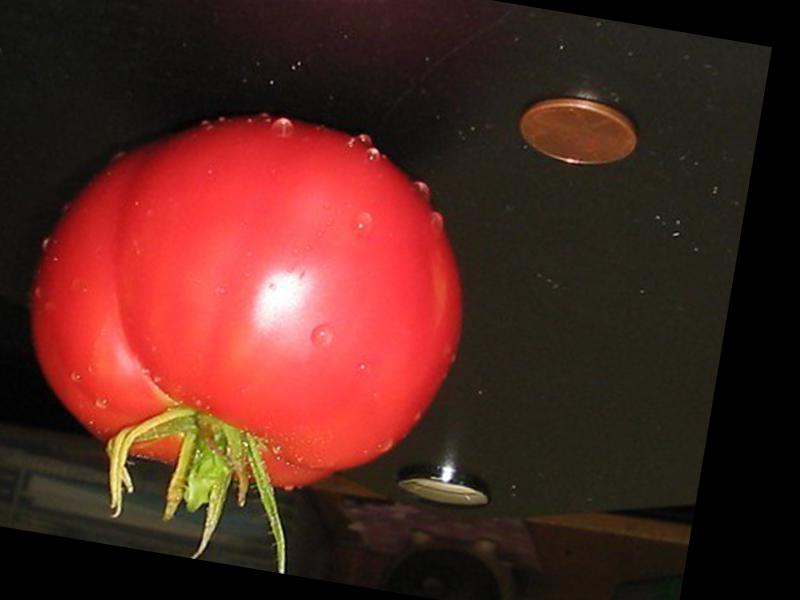Tomato: (4, 80, 489, 514)
